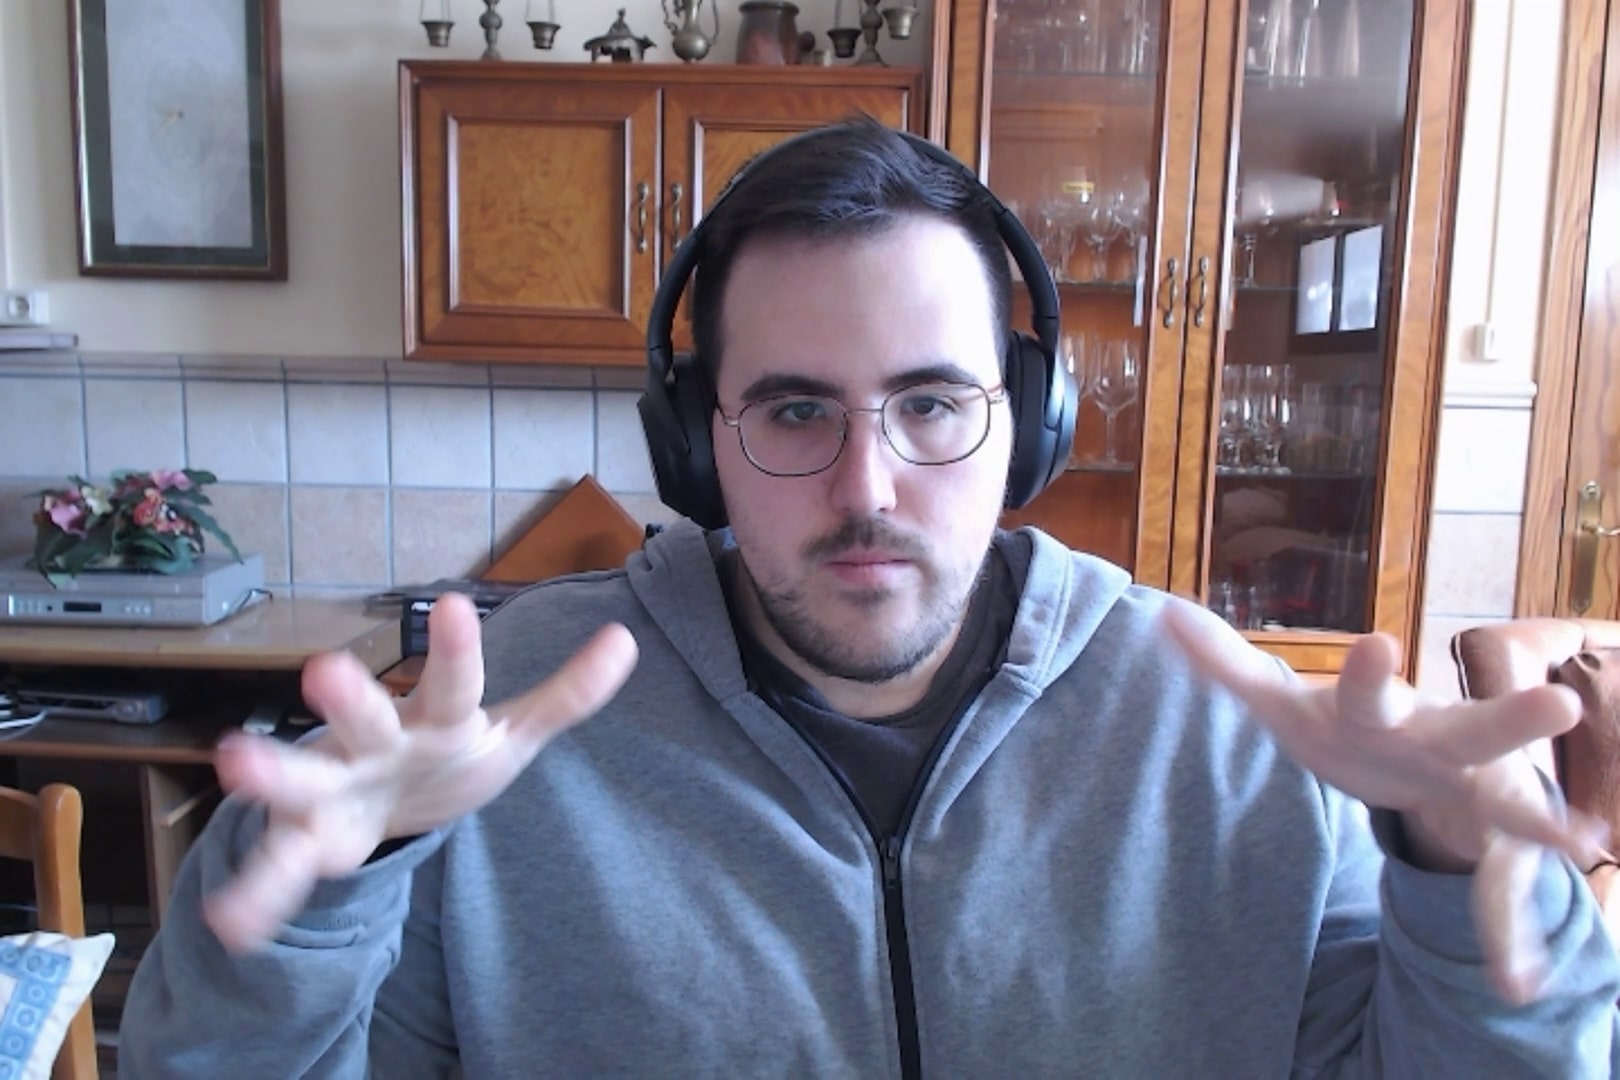hand: (1151, 589, 1610, 1022), (181, 586, 650, 963)
